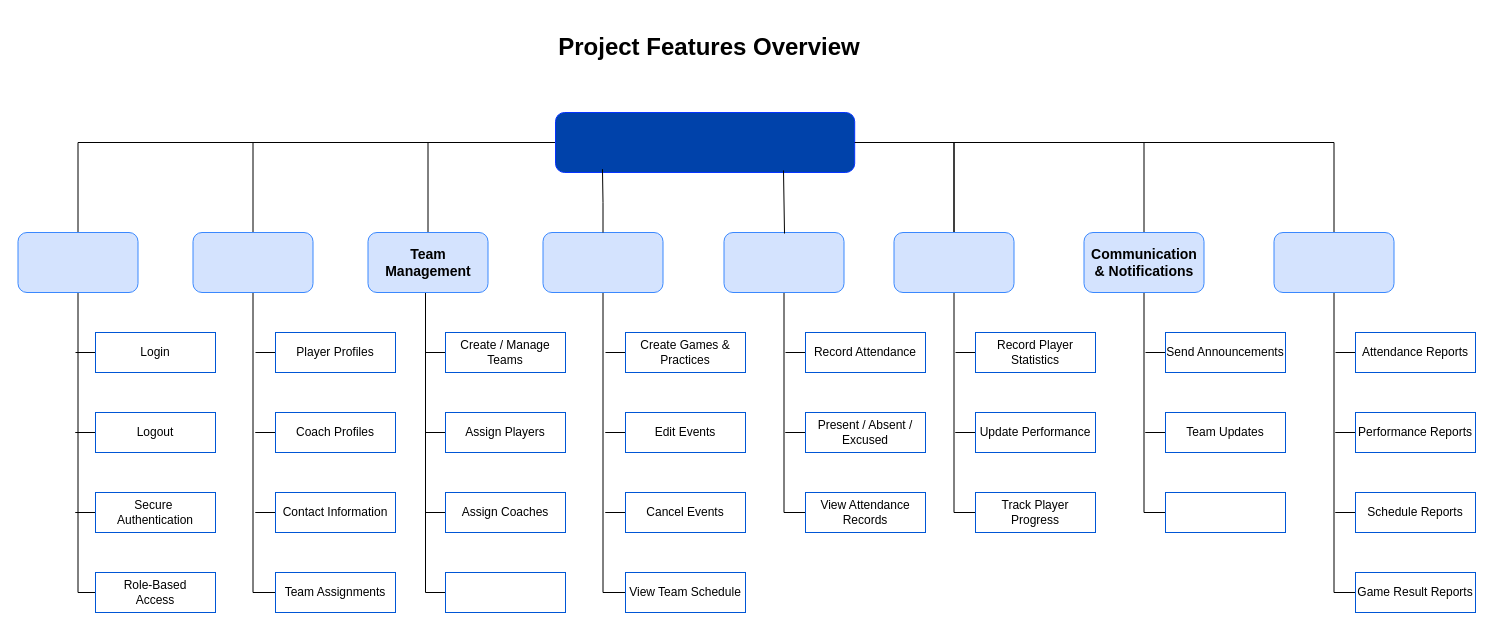
The diagram is 1493 pixels wide and 630 high, and some of its shapes have lost their labels. The box of each missing label's shape, as (x1, y1, x2, y2) in pixels:
Attendance Tracking: (723, 232, 844, 292)
Authentication & Access: (17, 232, 138, 292)
Performance Tracking: (893, 232, 1014, 292)
Reporting: (1273, 232, 1394, 292)
Schedule Change Notifications: (1164, 492, 1286, 532)
Scheduling: (542, 232, 663, 292)
Sports Team Management Platform: (554, 112, 855, 172)
User & Profile Management: (192, 232, 313, 292)
View Team Roster: (444, 572, 566, 612)
